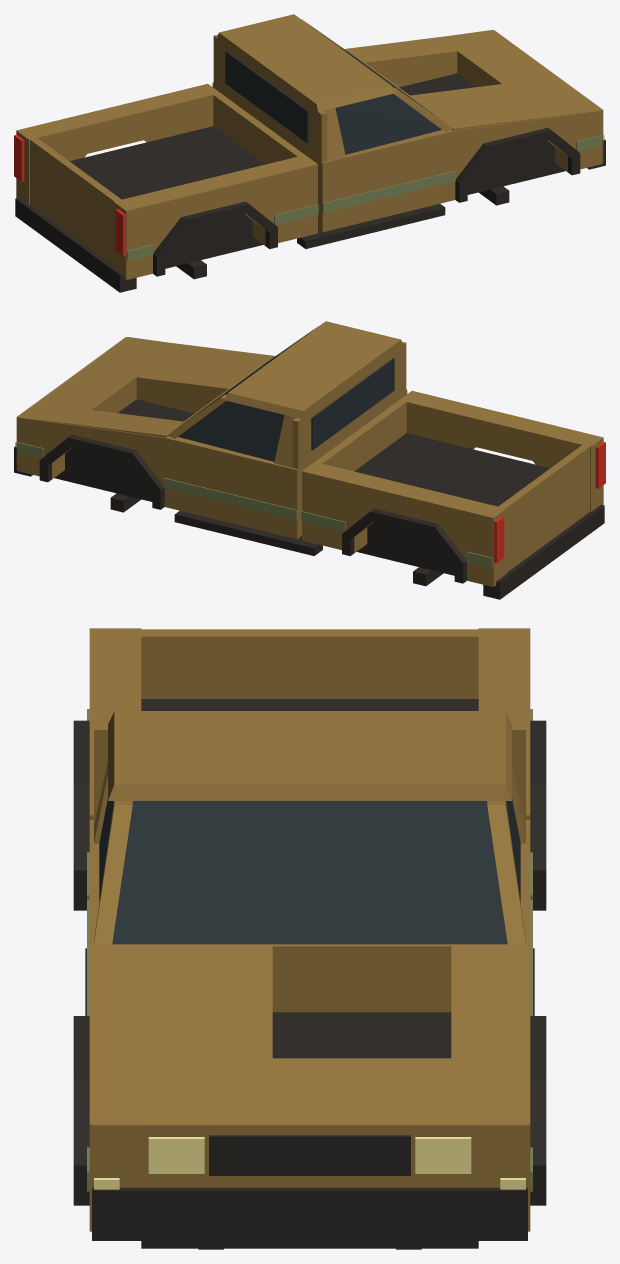
The model's file is base_scout.glb.
The picture shows the model from 3 angles, top to bottom: view 1: azimuth 30°, elevation 25°; view 2: azimuth 150°, elevation 25°; view 3: azimuth 270°, elevation 25°; orthographic projection. The views are drawn at different scales.
Visible parts, largest first — view 1: base_scout; view 2: base_scout; view 3: base_scout.
Part boxes in pixels (box(x1,y1,x2,y2)): base_scout: box(14, 14, 605, 292); base_scout: box(14, 321, 605, 599); base_scout: box(73, 628, 546, 1249).
Bounding box in the file's own units: 5.2 × 1.56 × 2.2.
